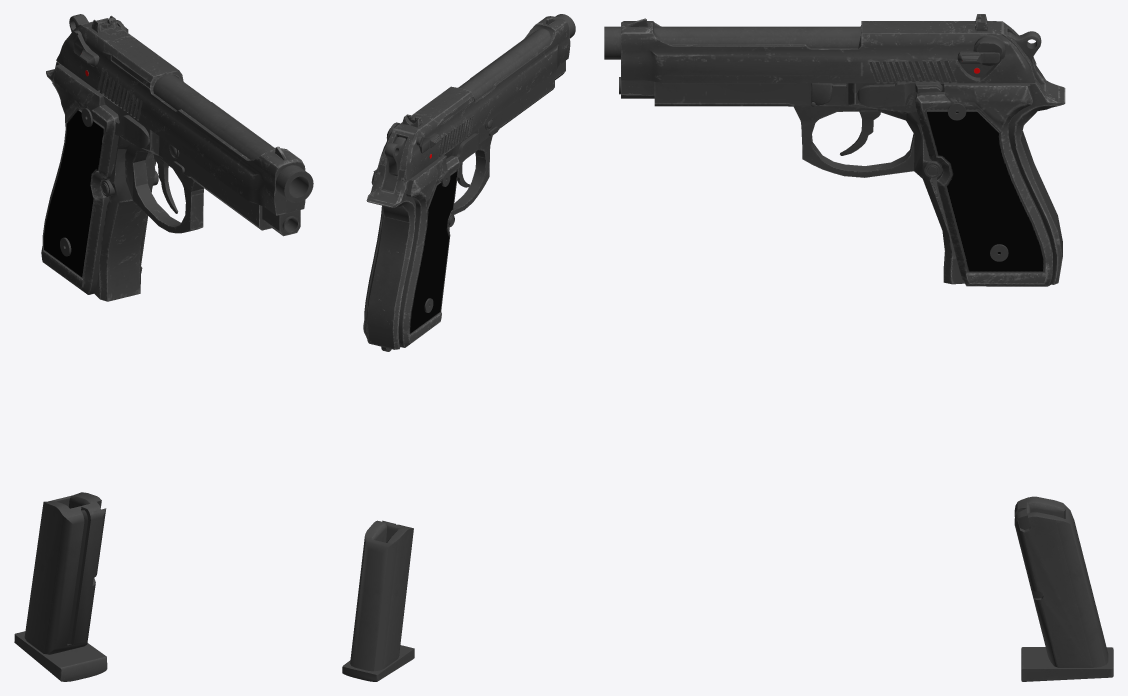
File: Pistol_Model.obj
3 renders of one model, left to right at view 1: azimuth 30°, elevation 25°; view 2: azimuth 150°, elevation 25°; view 3: azimuth 270°, elevation 25°, orthographic. The views are drawn at different scales.
Parts seen in each view (by area): view 1: Pistol_Hammer_Circle.001, Pistol_Top_Circle.000, Pistol_Magazine_Circle.004, Pistol_Trigger_Circle.002; view 2: Pistol_Hammer_Circle.001, Pistol_Top_Circle.000, Pistol_Magazine_Circle.004, Pistol_Body_Circle.003; view 3: Pistol_Hammer_Circle.001, Pistol_Top_Circle.000, Pistol_Magazine_Circle.004.
Part boxes in pixels (left/top/right/bottom): Pistol_Hammer_Circle.001: left=41, top=61, right=313, bottom=301; Pistol_Top_Circle.000: left=56, top=15, right=305, bottom=215; Pistol_Magazine_Circle.004: left=14, top=492, right=107, bottom=681; Pistol_Trigger_Circle.002: left=153, top=154, right=178, bottom=213; Pistol_Hammer_Circle.001: left=363, top=14, right=575, bottom=351; Pistol_Top_Circle.000: left=375, top=16, right=570, bottom=181; Pistol_Magazine_Circle.004: left=342, top=520, right=414, bottom=681; Pistol_Body_Circle.003: left=385, top=136, right=406, bottom=175; Pistol_Hammer_Circle.001: left=604, top=26, right=1065, bottom=286; Pistol_Top_Circle.000: left=621, top=14, right=1036, bottom=83; Pistol_Magazine_Circle.004: left=1014, top=496, right=1113, bottom=681.
Bounding box in the file's own units: 1.07 × 11.14 × 7.85.
1 material, 1 textured.
